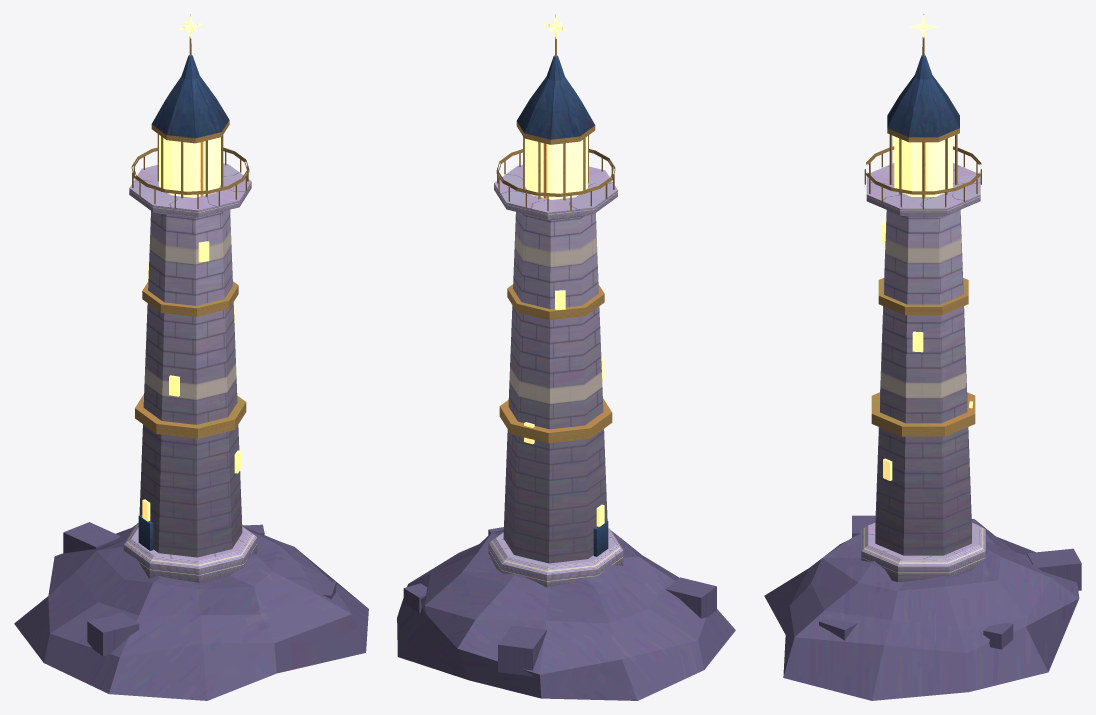
Rendered from AT_LanternSpire.fbx.
3 renders of one model, left to right at view 1: azimuth 30°, elevation 25°; view 2: azimuth 150°, elevation 25°; view 3: azimuth 270°, elevation 25°, orthographic.
Parts seen in each view (by area): view 1: Islet, Shaft, Plinth, Roof, Gallery, LanternGlass, Band1, Boulder0, Band2, Boulder2; view 2: Islet, Shaft, Roof, Plinth, Gallery, LanternGlass, Boulder2, Band1, Boulder0, Band2; view 3: Islet, Shaft, Roof, Plinth, Gallery, LanternGlass, Band1, Boulder2, Band2, Boulder3.
Part boxes in pixels (left/top/right/bottom): Islet: left=14, top=525, right=368, bottom=700; Shaft: left=139, top=209, right=242, bottom=557; Plinth: left=123, top=523, right=257, bottom=582; Roof: left=152, top=55, right=229, bottom=138; Gallery: left=129, top=163, right=251, bottom=217; LanternGlass: left=159, top=135, right=220, bottom=197; Band1: left=135, top=394, right=246, bottom=438; Boulder0: left=87, top=612, right=139, bottom=656; Band2: left=142, top=281, right=238, bottom=316; Boulder2: left=63, top=522, right=120, bottom=553; Islet: left=397, top=530, right=735, bottom=700; Shaft: left=503, top=212, right=607, bottom=563; Roof: left=517, top=55, right=594, bottom=139; Plinth: left=488, top=528, right=623, bottom=587; Gallery: left=494, top=165, right=617, bottom=220; LanternGlass: left=525, top=136, right=587, bottom=199; Boulder2: left=498, top=626, right=546, bottom=676; Band1: left=499, top=398, right=612, bottom=443; Boulder0: left=665, top=577, right=716, bottom=618; Band2: left=507, top=284, right=604, bottom=320; Islet: left=764, top=519, right=1079, bottom=700; Shaft: left=875, top=210, right=971, bottom=555; Roof: left=887, top=55, right=959, bottom=137; Plinth: left=861, top=522, right=985, bottom=581; Gallery: left=866, top=163, right=980, bottom=216; LanternGlass: left=894, top=136, right=952, bottom=196; Band1: left=871, top=392, right=975, bottom=436; Boulder2: left=1027, top=548, right=1081, bottom=590; Band2: left=878, top=278, right=968, bottom=315; Boulder3: left=983, top=622, right=1013, bottom=649.
Bounding box in the file's own units: 18.48 × 36.15 × 16.99.
Materials: 1 (1 with a texture image).
